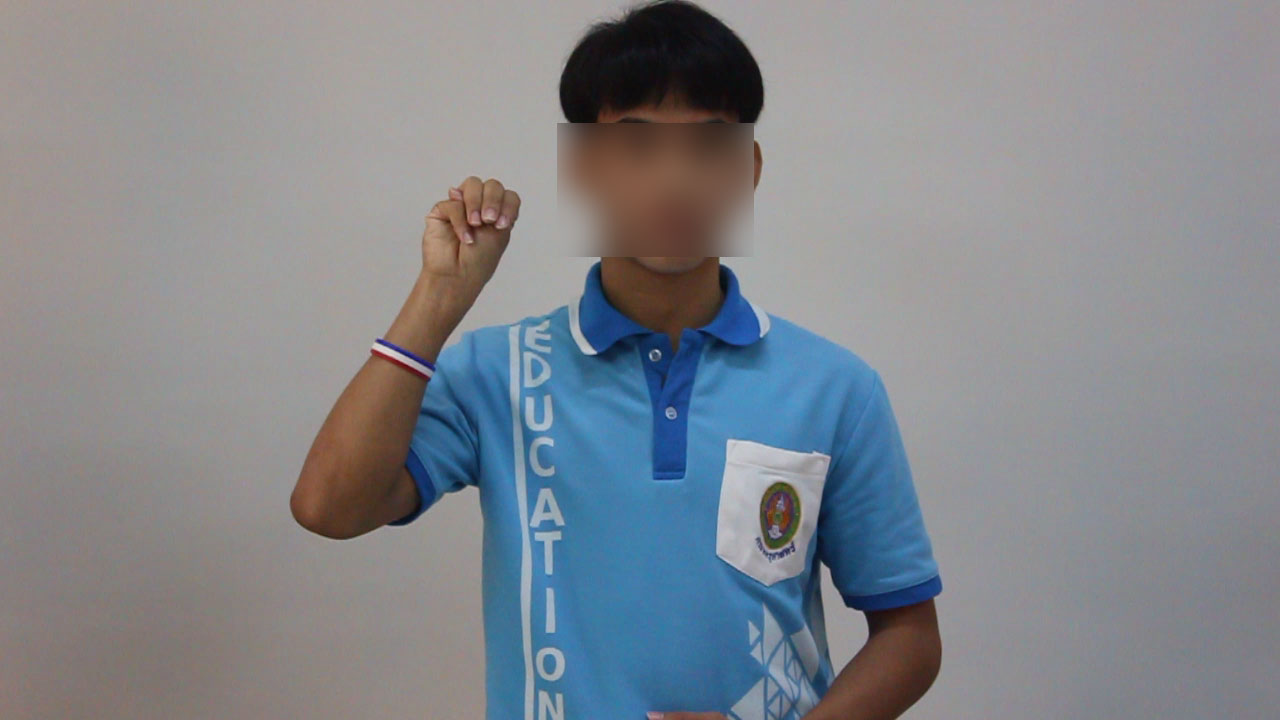mor: (410, 152, 528, 305)
